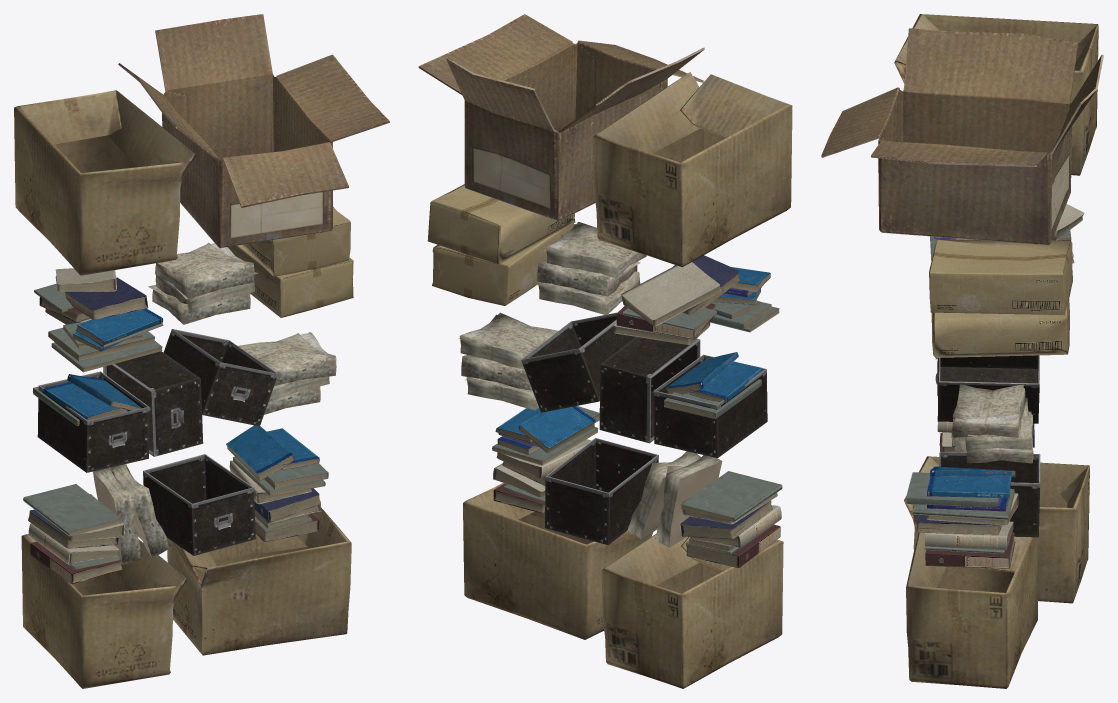
Rendered from sm39_033_ironshelfset01a.fbx.
3 renders of one model, left to right at view 1: azimuth 30°, elevation 25°; view 2: azimuth 150°, elevation 25°; view 3: azimuth 270°, elevation 25°, orthographic. The views are drawn at different scales.
Visible parts, largest first — view 1: LOD_1_Group_0_Sub_5__sm36_002_Cardboard01A_A_Mat, LOD_1_Group_0_Sub_1__sm36_005_Cardboard04A_A_Mat, LOD_1_Group_1_Sub_1__sm36_022_Cardboard01A_B_Mat, LOD_1_Group_0_Sub_4__sm36_009_PaperBundle01A_A_Mat, LOD_1_Group_0_Sub_6__sm36_004_Cardboard03A_A_Mat, LOD_1_Group_0_Sub_2__sm36_022_Cardboard01A_B_Mat, LOD_1_Group_5_Sub_2__sm36_007_PaperWork01A_A_Mat1, LOD_1_Group_2_Sub_2__sm36_007_PaperWork01A_A_Mat1, LOD_1_Group_0_Sub_7__sm36_007_PaperWork01A_A_Mat1, LOD_1_Group_9_Sub_2__sm36_007_PaperWork01A_A_Mat1, LOD_1_Group_4_Sub_2__sm36_007_PaperWork01A_A_Mat1, LOD_1_Group_4_Sub_1__sm36_007_PaperWork01A_A_Mat (+9 smaller); view 2: LOD_1_Group_0_Sub_5__sm36_002_Cardboard01A_A_Mat, LOD_1_Group_0_Sub_1__sm36_005_Cardboard04A_A_Mat, LOD_1_Group_1_Sub_1__sm36_022_Cardboard01A_B_Mat, LOD_1_Group_0_Sub_4__sm36_009_PaperBundle01A_A_Mat, LOD_1_Group_0_Sub_6__sm36_004_Cardboard03A_A_Mat, LOD_1_Group_0_Sub_2__sm36_022_Cardboard01A_B_Mat, LOD_1_Group_5_Sub_2__sm36_007_PaperWork01A_A_Mat1, LOD_1_Group_7_Sub_1__sm36_007_PaperWork01A_A_Mat, LOD_1_Group_2_Sub_2__sm36_007_PaperWork01A_A_Mat1, LOD_1_Group_0_Sub_7__sm36_007_PaperWork01A_A_Mat1, LOD_1_Group_9_Sub_2__sm36_007_PaperWork01A_A_Mat1, LOD_1_Group_1_Sub_3__sm36_007_PaperWork01A_A_Mat1 (+9 smaller); view 3: LOD_1_Group_0_Sub_1__sm36_005_Cardboard04A_A_Mat, LOD_1_Group_0_Sub_5__sm36_002_Cardboard01A_A_Mat, LOD_1_Group_0_Sub_6__sm36_004_Cardboard03A_A_Mat, LOD_1_Group_1_Sub_1__sm36_022_Cardboard01A_B_Mat, LOD_1_Group_0_Sub_4__sm36_009_PaperBundle01A_A_Mat, LOD_1_Group_0_Sub_7__sm36_007_PaperWork01A_A_Mat1, LOD_1_Group_7_Sub_2__sm36_007_PaperWork01A_A_Mat1, LOD_1_Group_9_Sub_2__sm36_007_PaperWork01A_A_Mat1, LOD_1_Group_3_Sub_2__sm36_007_PaperWork01A_A_Mat1, LOD_1_Group_1_Sub_3__sm36_007_PaperWork01A_A_Mat1, LOD_1_Group_4_Sub_2__sm36_007_PaperWork01A_A_Mat1, LOD_1_Group_5_Sub_2__sm36_007_PaperWork01A_A_Mat1 (+2 smaller).
Part boxes in pixels (x1,y1,x2,y2): LOD_1_Group_0_Sub_5__sm36_002_Cardboard01A_A_Mat: (14, 90, 351, 688); LOD_1_Group_0_Sub_1__sm36_005_Cardboard04A_A_Mat: (118, 14, 389, 247); LOD_1_Group_1_Sub_1__sm36_022_Cardboard01A_B_Mat: (103, 329, 278, 555); LOD_1_Group_0_Sub_4__sm36_009_PaperBundle01A_A_Mat: (93, 242, 336, 564); LOD_1_Group_0_Sub_6__sm36_004_Cardboard03A_A_Mat: (228, 207, 353, 317); LOD_1_Group_0_Sub_2__sm36_022_Cardboard01A_B_Mat: (37, 371, 149, 472); LOD_1_Group_5_Sub_2__sm36_007_PaperWork01A_A_Mat1: (23, 456, 325, 536); LOD_1_Group_2_Sub_2__sm36_007_PaperWork01A_A_Mat1: (67, 374, 294, 480); LOD_1_Group_0_Sub_7__sm36_007_PaperWork01A_A_Mat1: (43, 382, 319, 469); LOD_1_Group_9_Sub_2__sm36_007_PaperWork01A_A_Mat1: (30, 513, 319, 584); LOD_1_Group_4_Sub_2__sm36_007_PaperWork01A_A_Mat1: (28, 488, 320, 548); LOD_1_Group_4_Sub_1__sm36_007_PaperWork01A_A_Mat: (65, 277, 148, 319); LOD_1_Group_0_Sub_5__sm36_002_Cardboard01A_A_Mat: (463, 72, 792, 688); LOD_1_Group_0_Sub_1__sm36_005_Cardboard04A_A_Mat: (418, 14, 704, 221); LOD_1_Group_1_Sub_1__sm36_022_Cardboard01A_B_Mat: (521, 312, 700, 545); LOD_1_Group_0_Sub_4__sm36_009_PaperBundle01A_A_Mat: (458, 222, 722, 547); LOD_1_Group_0_Sub_6__sm36_004_Cardboard03A_A_Mat: (427, 184, 575, 305); LOD_1_Group_0_Sub_2__sm36_022_Cardboard01A_B_Mat: (653, 354, 767, 458); LOD_1_Group_5_Sub_2__sm36_007_PaperWork01A_A_Mat1: (492, 427, 782, 521); LOD_1_Group_7_Sub_1__sm36_007_PaperWork01A_A_Mat: (621, 262, 721, 326); LOD_1_Group_2_Sub_2__sm36_007_PaperWork01A_A_Mat1: (518, 352, 738, 453); LOD_1_Group_0_Sub_7__sm36_007_PaperWork01A_A_Mat1: (495, 361, 762, 442); LOD_1_Group_9_Sub_2__sm36_007_PaperWork01A_A_Mat1: (493, 483, 780, 567); LOD_1_Group_1_Sub_3__sm36_007_PaperWork01A_A_Mat1: (496, 436, 777, 524); LOD_1_Group_0_Sub_1__sm36_005_Cardboard04A_A_Mat: (821, 28, 1103, 245); LOD_1_Group_0_Sub_5__sm36_002_Cardboard01A_A_Mat: (894, 14, 1098, 688); LOD_1_Group_0_Sub_6__sm36_004_Cardboard03A_A_Mat: (929, 239, 1072, 357); LOD_1_Group_1_Sub_1__sm36_022_Cardboard01A_B_Mat: (935, 355, 1040, 537); LOD_1_Group_0_Sub_4__sm36_009_PaperBundle01A_A_Mat: (952, 238, 1033, 463); LOD_1_Group_0_Sub_7__sm36_007_PaperWork01A_A_Mat1: (927, 476, 1011, 498); LOD_1_Group_7_Sub_2__sm36_007_PaperWork01A_A_Mat1: (925, 432, 1013, 549); LOD_1_Group_9_Sub_2__sm36_007_PaperWork01A_A_Mat1: (925, 433, 1015, 568); LOD_1_Group_3_Sub_2__sm36_007_PaperWork01A_A_Mat1: (906, 472, 999, 507); LOD_1_Group_1_Sub_3__sm36_007_PaperWork01A_A_Mat1: (926, 421, 1018, 525); LOD_1_Group_4_Sub_2__sm36_007_PaperWork01A_A_Mat1: (916, 423, 1034, 535); LOD_1_Group_5_Sub_2__sm36_007_PaperWork01A_A_Mat1: (913, 488, 1014, 520).
Size of the model in its own units: 1.44 by 2.48 by 1.1.
